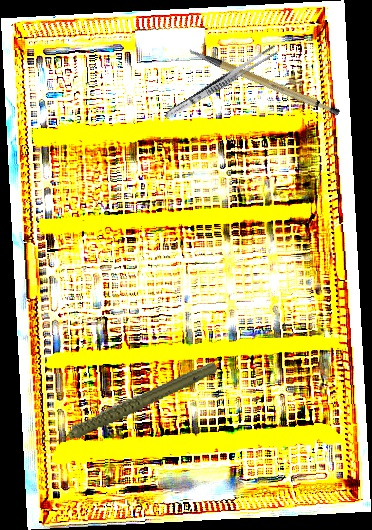Dressing Forceps: (162, 42, 280, 123)
Handpiece: (32, 359, 227, 448)
Scalpel Handle: (187, 25, 342, 136)
